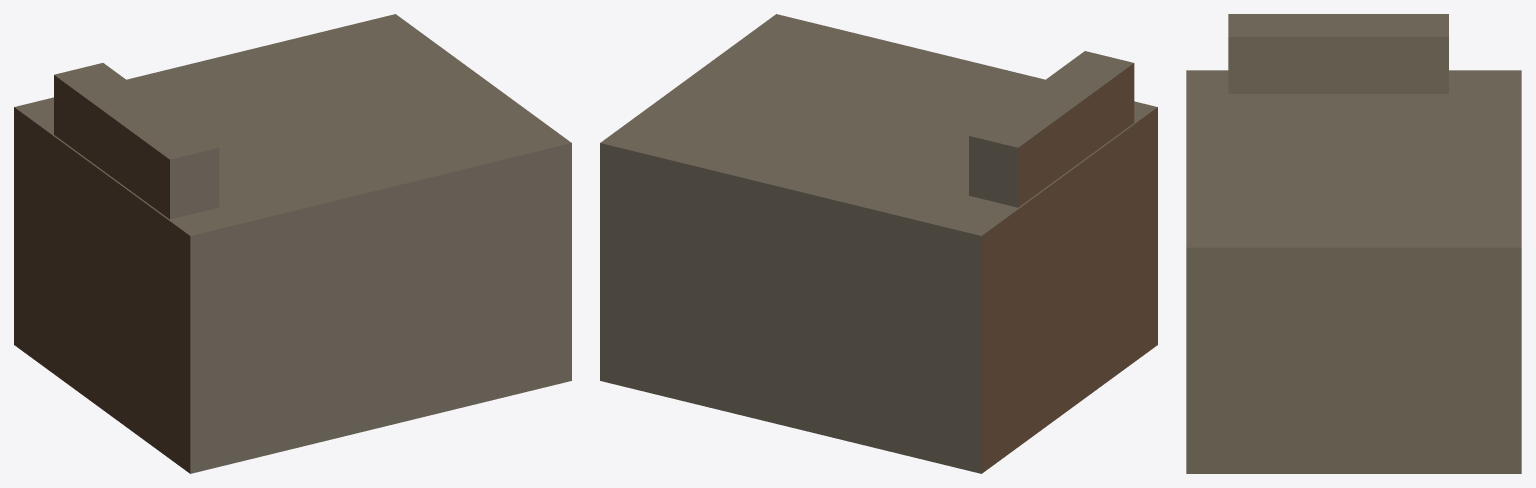
The model's file is cr-desert-modern.far-facades-v3.lod2.glb.
3 renders of one model, left to right at view 1: azimuth 30°, elevation 25°; view 2: azimuth 150°, elevation 25°; view 3: azimuth 270°, elevation 25°, orthographic. The views are drawn at different scales.
Visible parts, largest first — view 1: cr-desert-modern; view 2: cr-desert-modern; view 3: cr-desert-modern.
Boxes of the visible parts, x1,y1,x2,y2 form: cr-desert-modern: [14, 14, 571, 473]; cr-desert-modern: [600, 14, 1157, 473]; cr-desert-modern: [1186, 14, 1521, 473].
Size of the model in its own units: 12 by 8.95 by 9.6.
